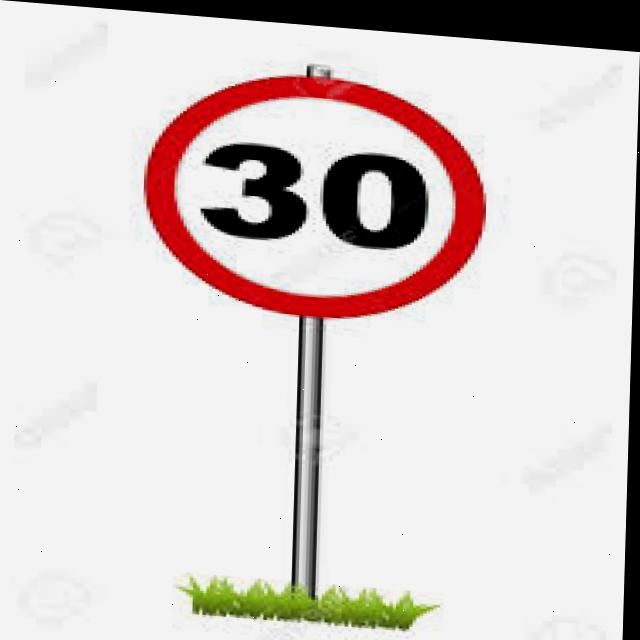Speed limit 30: (137, 49, 495, 325)
